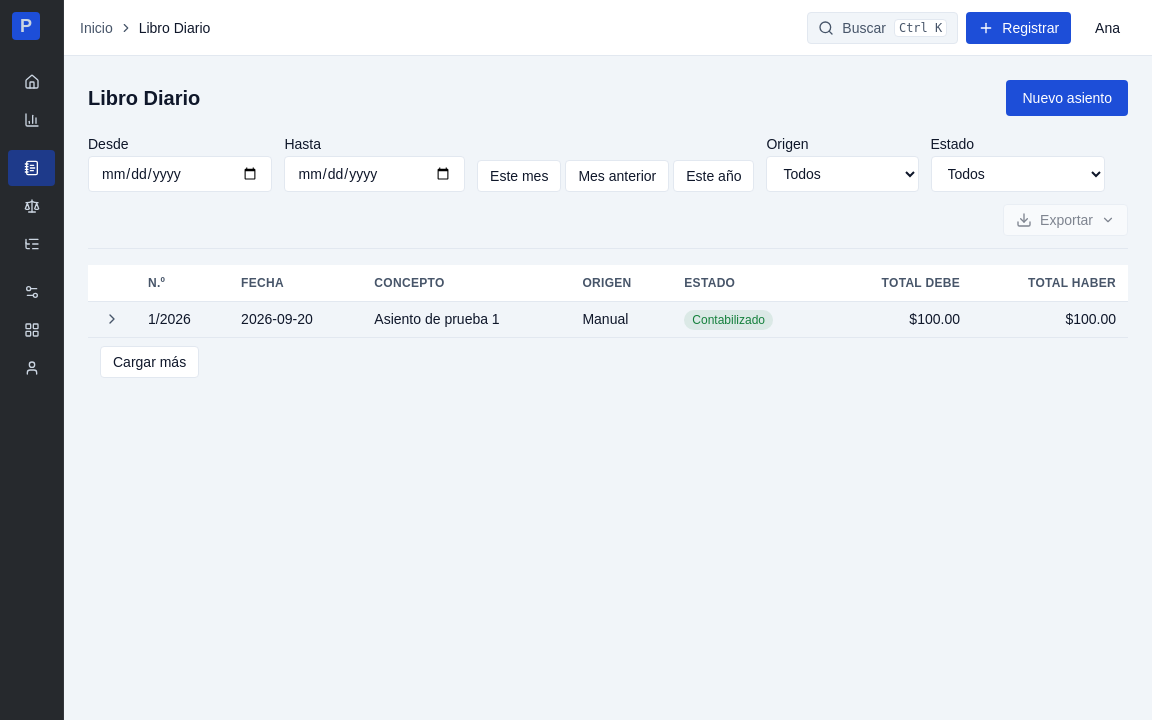
Test: listado del Libro Diario › "Cargar más" pide la página siguiente con el cursor y conserva las filas ya cargadas
Expected: the link named "Asiento 1/2026" is shown, [148, 311, 191, 327]
Click the button "Cargar más" at (150, 362), box [100, 346, 199, 378]
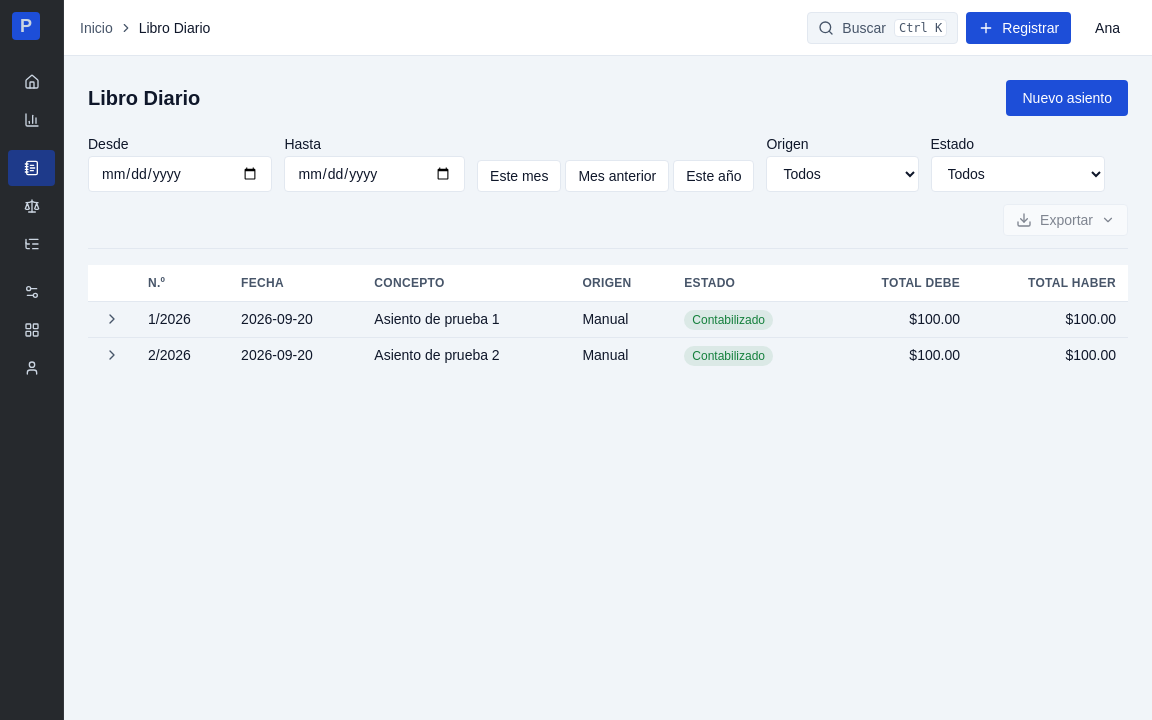
Expected: the link named "Asiento 1/2026" is shown, [148, 311, 191, 327]
Result: the link named "Asiento 2/2026" is shown at [148, 347, 191, 363]
Result: the button "Cargar más" is gone
